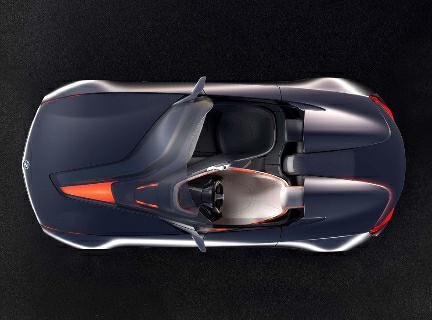宝马-ConnectedDrive: (21, 69, 410, 263)
